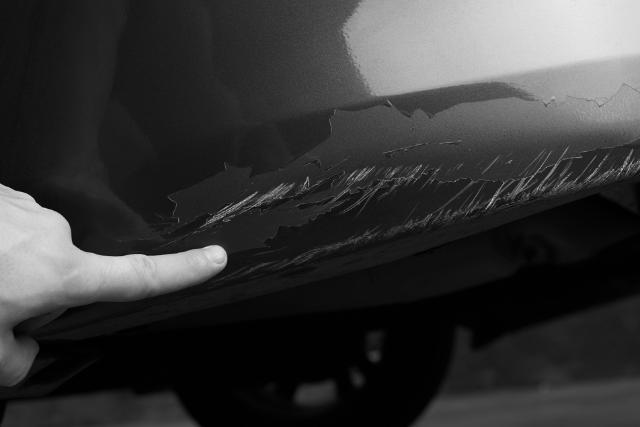Bumper: (119, 57, 640, 279)
